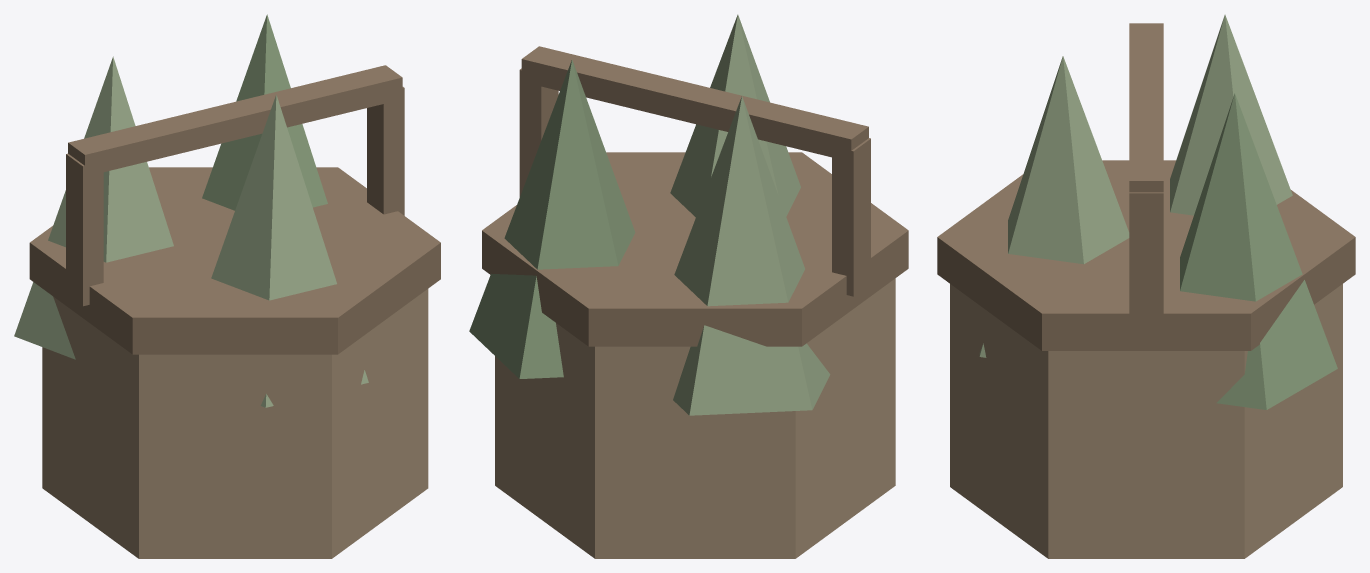
Rendered from herb-basket.glb.
3 views of the same model, side by side, from view 1: azimuth 30°, elevation 25°; view 2: azimuth 150°, elevation 25°; view 3: azimuth 270°, elevation 25° (orthographic). The views are drawn at different scales.
Parts seen in each view (by area): view 1: herb_basket; view 2: herb_basket; view 3: herb_basket.
Part boxes in pixels (x1,y1,x2,y2): herb_basket: (14,14,440,558); herb_basket: (469,14,908,558); herb_basket: (937,14,1355,558).
Bounding box in the file's own units: 0.1308 × 0.1617 × 0.142.
